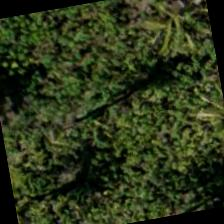Kelapa_Sawit: (117, 0, 215, 69)
